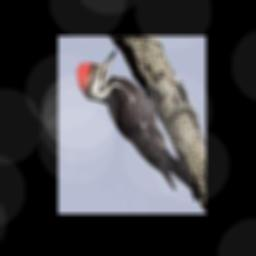Woodpecker: (76, 49, 205, 201)
